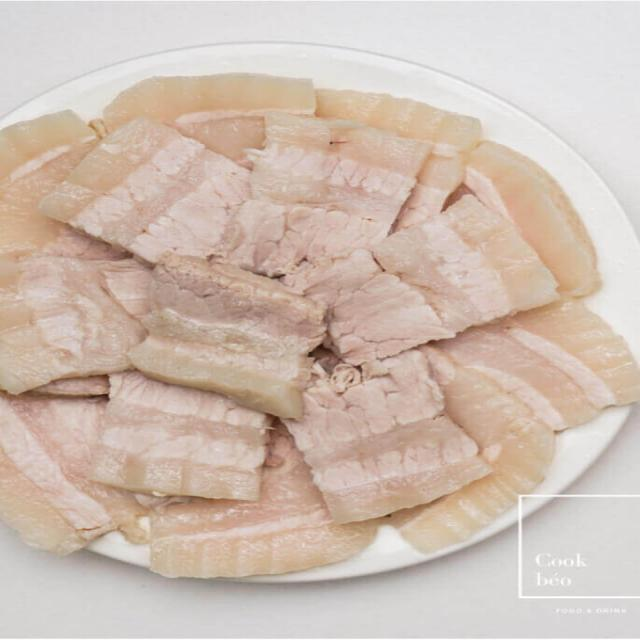thit luoc: (0, 75, 639, 577)
